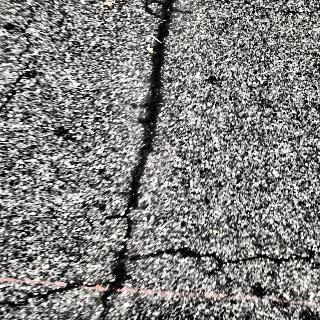crack: (119, 0, 193, 244), (4, 279, 145, 317), (113, 248, 319, 272)
